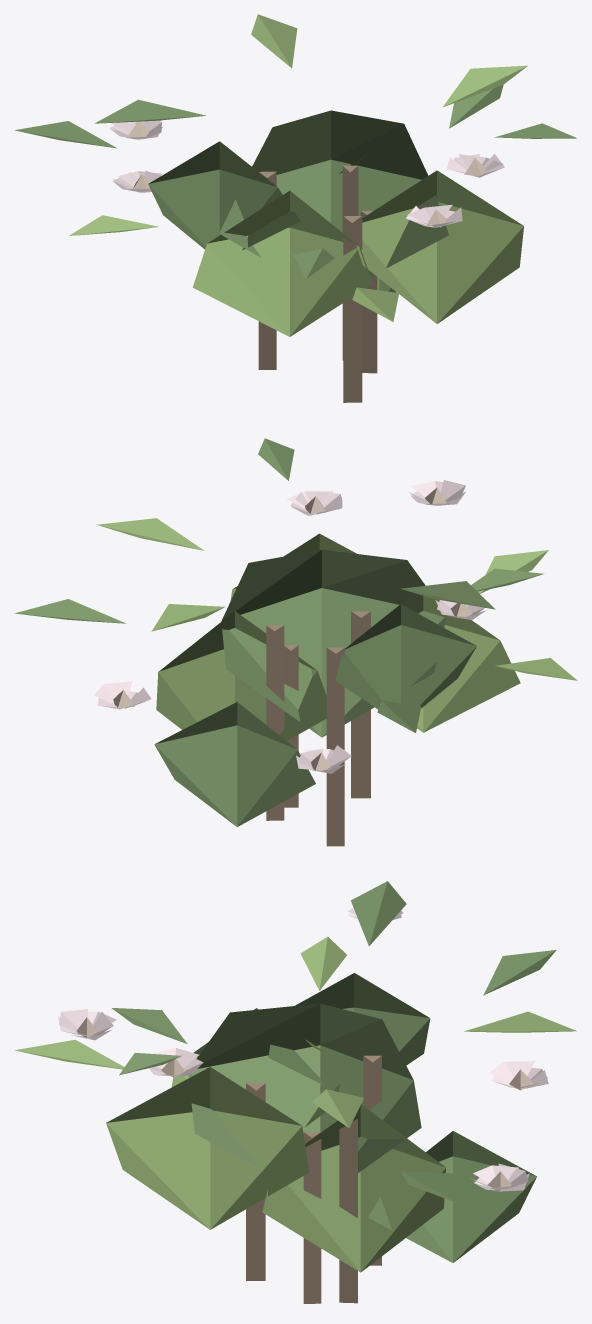
Rendered from guan.huanglu__bloom.glb.
The picture shows the model from 3 angles, top to bottom: view 1: azimuth 30°, elevation 25°; view 2: azimuth 150°, elevation 25°; view 3: azimuth 270°, elevation 25°; orthographic projection. The views are drawn at different scales.
Visible parts, largest first — view 1: guan.huanglu__bloom; view 2: guan.huanglu__bloom; view 3: guan.huanglu__bloom.
Part boxes in pixels (left/top/right/bottom): guan.huanglu__bloom: left=15, top=14, right=576, bottom=402; guan.huanglu__bloom: left=14, top=438, right=577, bottom=846; guan.huanglu__bloom: left=15, top=881, right=576, bottom=1303.
Size of the model in its own units: 4.46 by 2.46 by 4.11.
